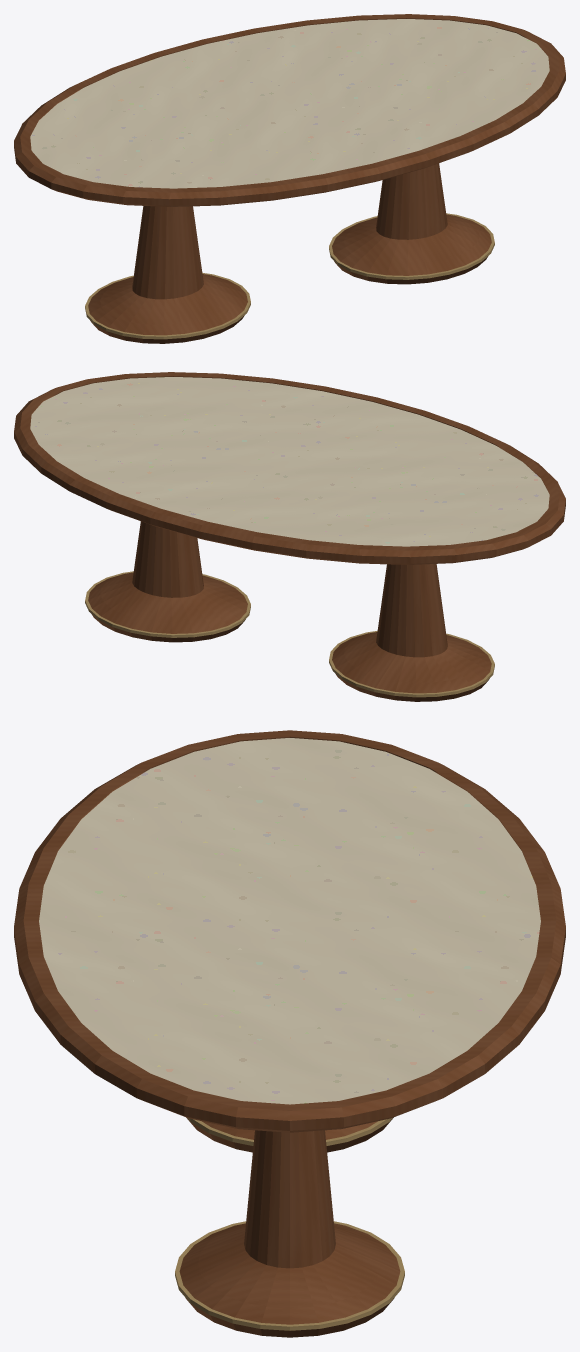
Rendered from AST-DIN-001_six.glb.
The picture shows the model from 3 angles, top to bottom: view 1: azimuth 30°, elevation 25°; view 2: azimuth 150°, elevation 25°; view 3: azimuth 270°, elevation 25°; orthographic projection. The views are drawn at different scales.
Visible parts, largest first — view 1: DIN_InsetStoneTop, DIN_WeightedPedestal_-0.56, DIN_WeightedPedestal_0.56, DIN_ProfiledTableRim, DIN_InlayBorder, DIN_FootTrim_0.56, DIN_FootTrim_-0.56; view 2: DIN_InsetStoneTop, DIN_WeightedPedestal_-0.56, DIN_WeightedPedestal_0.56, DIN_ProfiledTableRim, DIN_InlayBorder, DIN_FootTrim_0.56, DIN_FootTrim_-0.56; view 3: DIN_InsetStoneTop, DIN_WeightedPedestal_0.56, DIN_ProfiledTableRim, DIN_InlayBorder, DIN_FootTrim_0.56, DIN_WeightedPedestal_-0.56, DIN_FootTrim_-0.56.
Part boxes in pixels (left/top/right/bottom): DIN_InsetStoneTop: left=30, top=19, right=549, bottom=188; DIN_WeightedPedestal_-0.56: left=88, top=206, right=247, bottom=343; DIN_WeightedPedestal_0.56: left=332, top=163, right=491, bottom=284; DIN_ProfiledTableRim: left=14, top=18, right=565, bottom=206; DIN_InlayBorder: left=20, top=14, right=559, bottom=192; DIN_FootTrim_0.56: left=329, top=213, right=494, bottom=279; DIN_FootTrim_-0.56: left=85, top=272, right=250, bottom=339; DIN_InsetStoneTop: left=30, top=377, right=549, bottom=546; DIN_WeightedPedestal_-0.56: left=332, top=564, right=491, bottom=701; DIN_WeightedPedestal_0.56: left=88, top=521, right=247, bottom=642; DIN_ProfiledTableRim: left=14, top=376, right=565, bottom=564; DIN_InlayBorder: left=20, top=372, right=559, bottom=550; DIN_FootTrim_0.56: left=85, top=571, right=250, bottom=637; DIN_FootTrim_-0.56: left=329, top=630, right=494, bottom=697; DIN_InsetStoneTop: left=39, top=738, right=540, bottom=1104; DIN_WeightedPedestal_0.56: left=179, top=1130, right=400, bottom=1337; DIN_ProfiledTableRim: left=14, top=736, right=565, bottom=1132; DIN_InlayBorder: left=23, top=730, right=556, bottom=1110; DIN_FootTrim_0.56: left=175, top=1221, right=404, bottom=1330; DIN_WeightedPedestal_-0.56: left=186, top=1117, right=393, bottom=1152; DIN_FootTrim_-0.56: left=187, top=1118, right=392, bottom=1145.
Bounding box in the file's own units: 2.4 × 0.79 × 1.44.
Materials: 3 (3 with a texture image).
